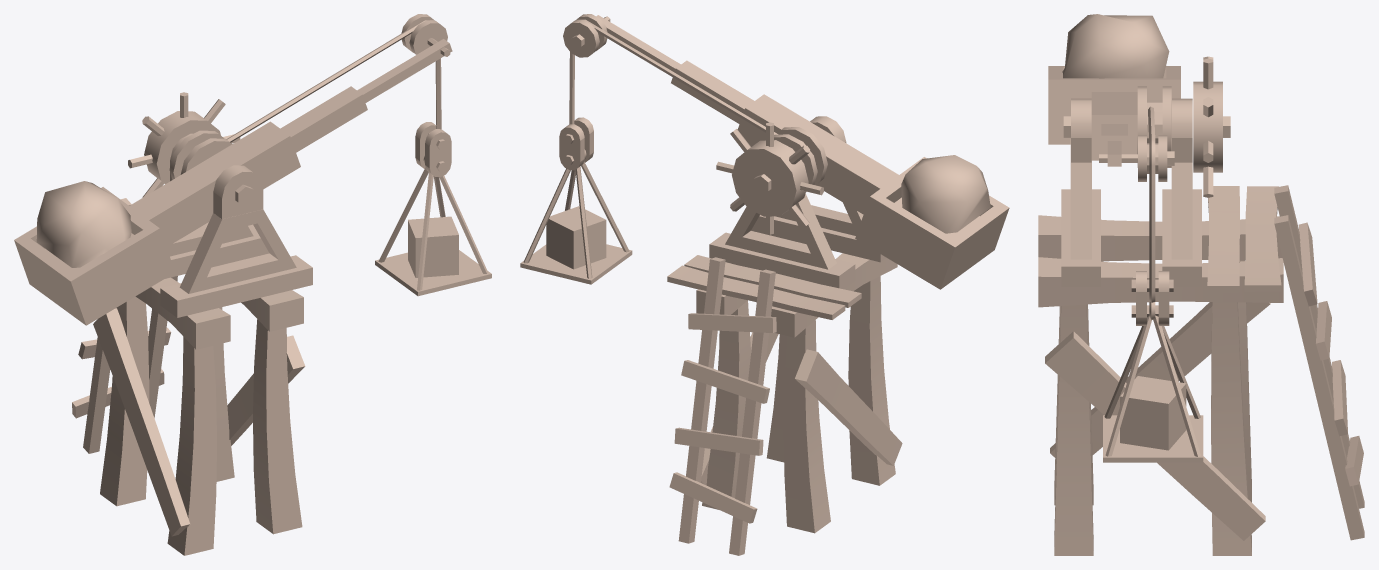
Rendered from Lift.FBX.
3 views of the same model, side by side, from view 1: azimuth 30°, elevation 25°; view 2: azimuth 150°, elevation 25°; view 3: azimuth 270°, elevation 25° (orthographic). The views are drawn at different scales.
Visible parts, largest first — view 1: Box742; view 2: Box742; view 3: Box742.
Part boxes in pixels (x1,y1,x2,y2): Box742: (14,14,491,555); Box742: (520,14,1009,555); Box742: (1038,14,1364,555).
Size of the model in its own units: 228 by 214 by 124.
